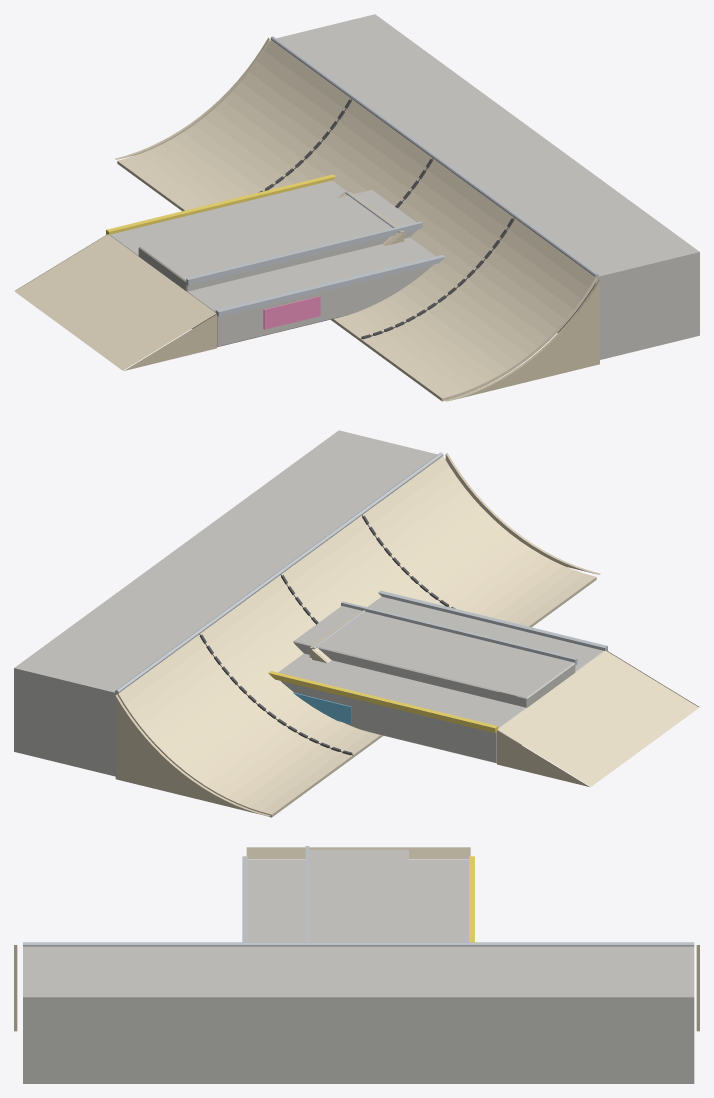
The model's file is skate_park.glb.
The picture shows the model from 3 angles, top to bottom: view 1: azimuth 30°, elevation 25°; view 2: azimuth 150°, elevation 25°; view 3: azimuth 270°, elevation 25°; orthographic projection. The views are drawn at different scales.
Visible parts, largest first — view 1: sk_qp_mesh, sk_funbox_mesh, sk_ledge_mesh; view 2: sk_qp_mesh, sk_funbox_mesh, sk_ledge_mesh; view 3: sk_qp_mesh, sk_funbox_mesh, sk_ledge_mesh.
Boxes of the visible parts, <box> form: sk_qp_mesh: <box>115,14,699,401</box>; sk_funbox_mesh: <box>15,174,445,370</box>; sk_ledge_mesh: <box>138,190,422,291</box>; sk_qp_mesh: <box>14,430,600,817</box>; sk_funbox_mesh: <box>268,590,699,786</box>; sk_ledge_mesh: <box>293,601,577,707</box>; sk_qp_mesh: <box>14,942,699,1083</box>; sk_funbox_mesh: <box>242,847,474,942</box>; sk_ledge_mesh: <box>305,846,408,942</box>.
Size of the model in its own units: 10 by 1.83 by 12.26.
